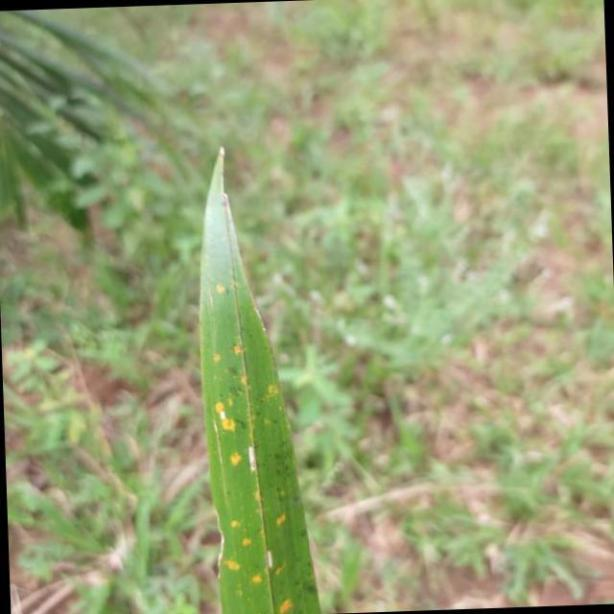Kalium: (195, 140, 324, 614)
